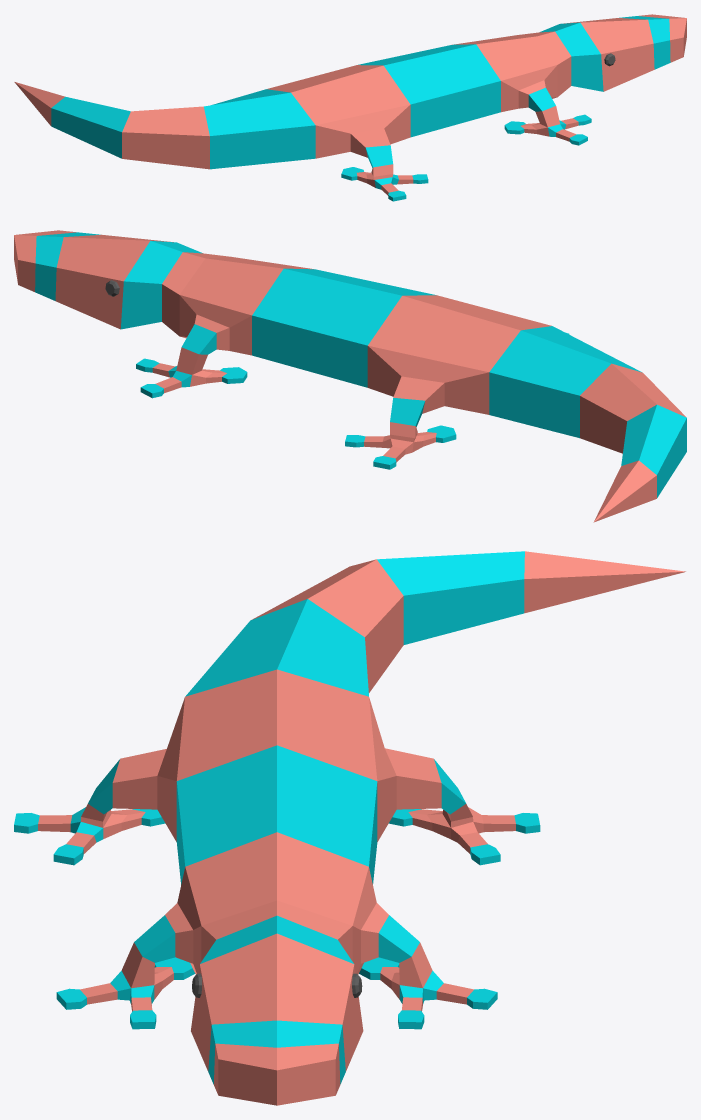
File: scene_e1LmHlJfoP.glb
The picture shows the model from 3 angles, top to bottom: view 1: azimuth 30°, elevation 25°; view 2: azimuth 150°, elevation 25°; view 3: azimuth 270°, elevation 25°; orthographic projection. The views are drawn at different scales.
Parts seen in each view (by area): view 1: Gecko_01_Cube.057; view 2: Gecko_01_Cube.057; view 3: Gecko_01_Cube.057.
Part boxes in pixels (box(x1,y1,x2,y2)): Gecko_01_Cube.057: box(14, 14, 686, 201); Gecko_01_Cube.057: box(14, 230, 686, 522); Gecko_01_Cube.057: box(14, 551, 685, 1105).
Size of the model in its own units: 23.15 by 2.72 by 12.74.
